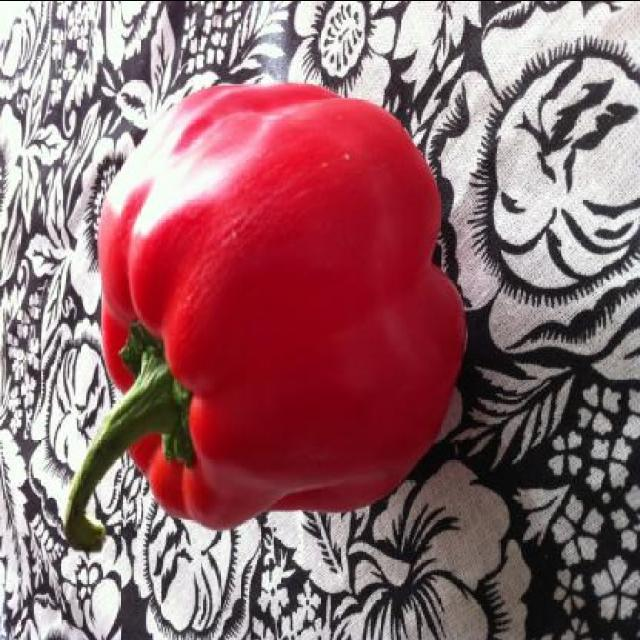Bell pepper: (63, 82, 465, 554)
